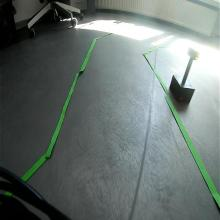green: (188, 45, 200, 63)
